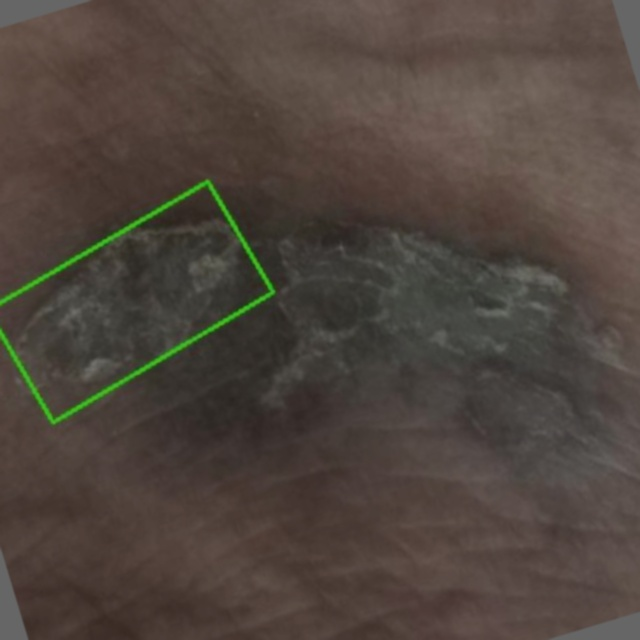Eczema: (0, 180, 272, 421)
